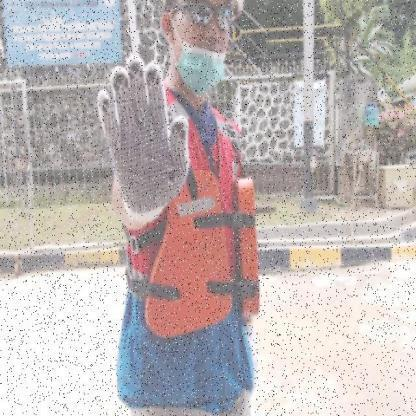gloves: (92, 48, 192, 224)
goggles: (176, 0, 235, 34)
mask: (176, 38, 229, 100)
vest: (143, 168, 263, 335)
